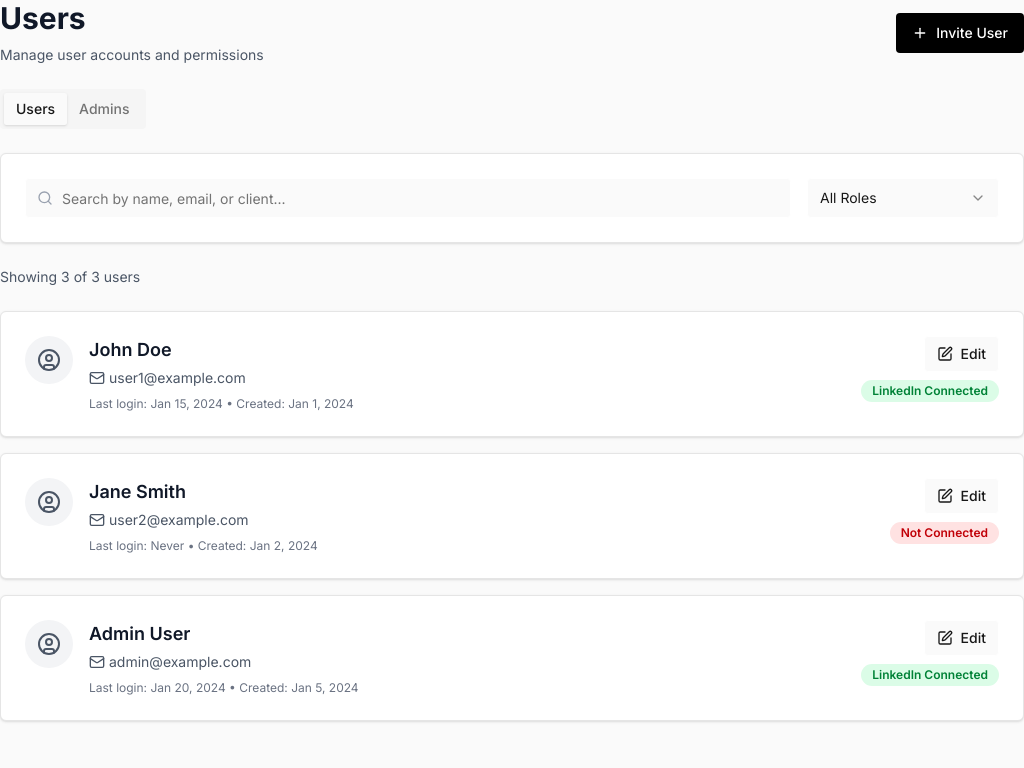
Scenario: AdminUsersPage › Create User Modal › should open create user modal
Expected: the heading "John Doe" is shown, top-left (89, 336), bottom-right (172, 364)
Click the button "Invite User" at (960, 32), box top-left (896, 12), bottom-right (1023, 52)
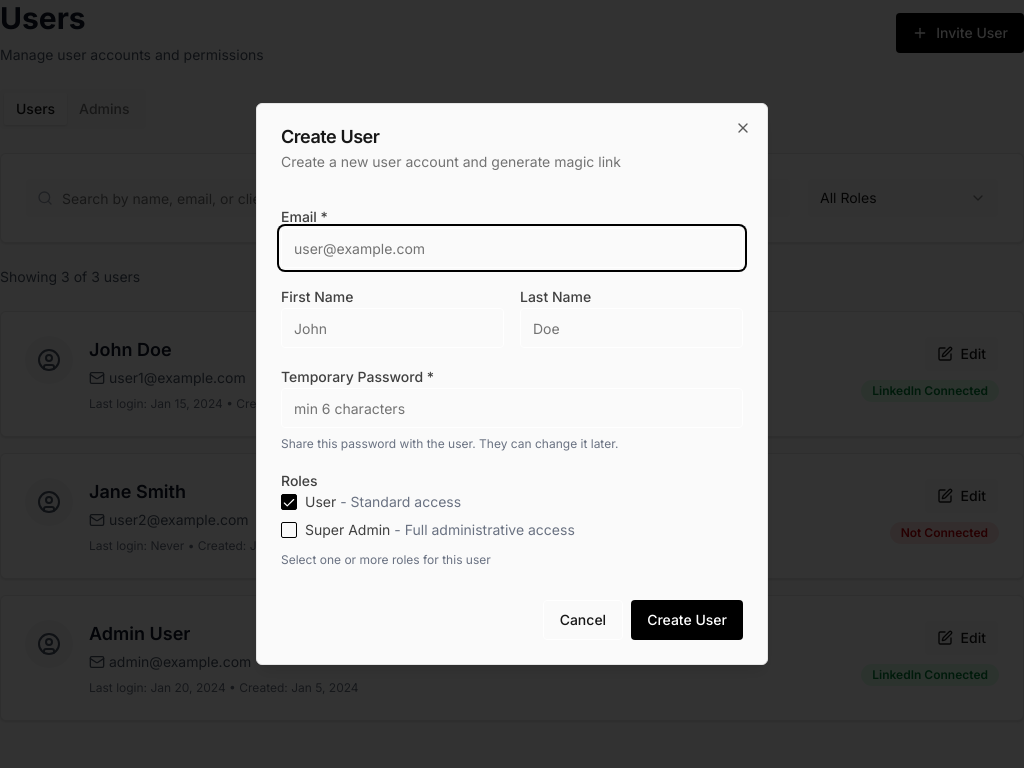
Expected: the dialog is shown, top-left (256, 103), bottom-right (768, 665)
Expected: the field labelled "Email *" is shown, top-left (281, 228), bottom-right (743, 268)
